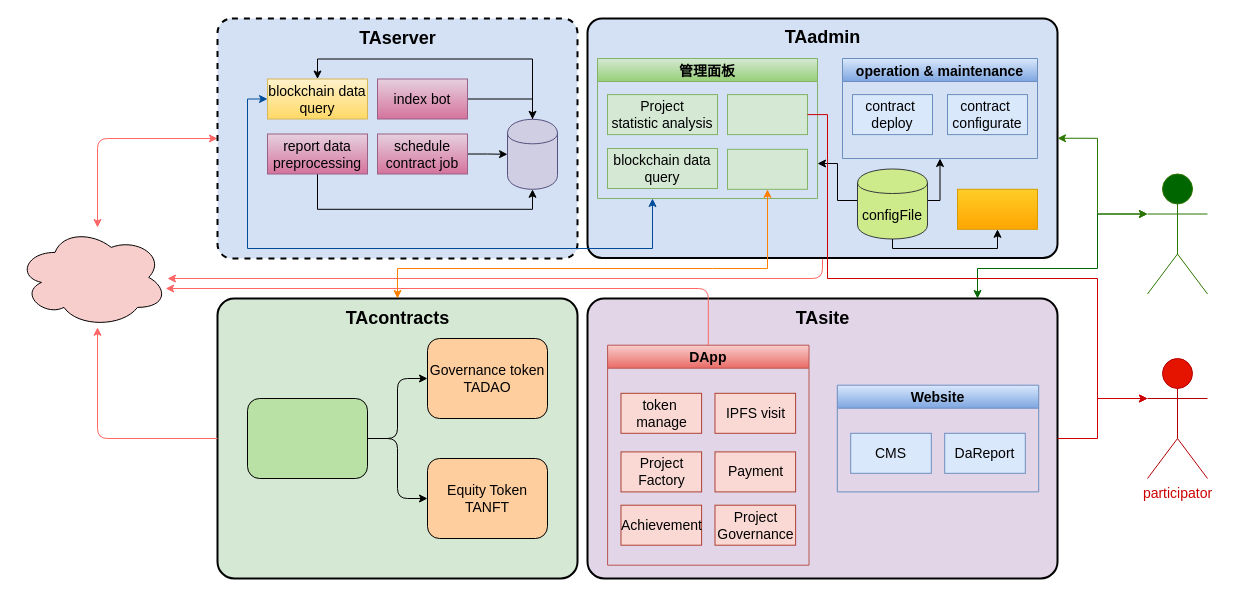
The diagram is 1237 pixels wide and 596 high, and some of its shapes have lost their labels. The centre of each missing label's shape, as x and y in pixels:
Business logic actions: (x=767, y=168)
contract test case: (x=997, y=208)
EVM chain: (x=92, y=276)
MySql: (x=532, y=153)
PorjectOwner: (x=1177, y=233)
ServiceContract TAService: (x=307, y=438)
User Dashboard: (x=767, y=114)
